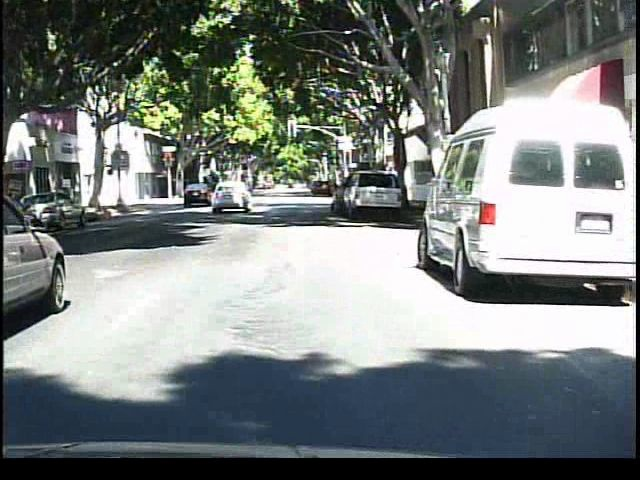person: (221, 171, 243, 207)
